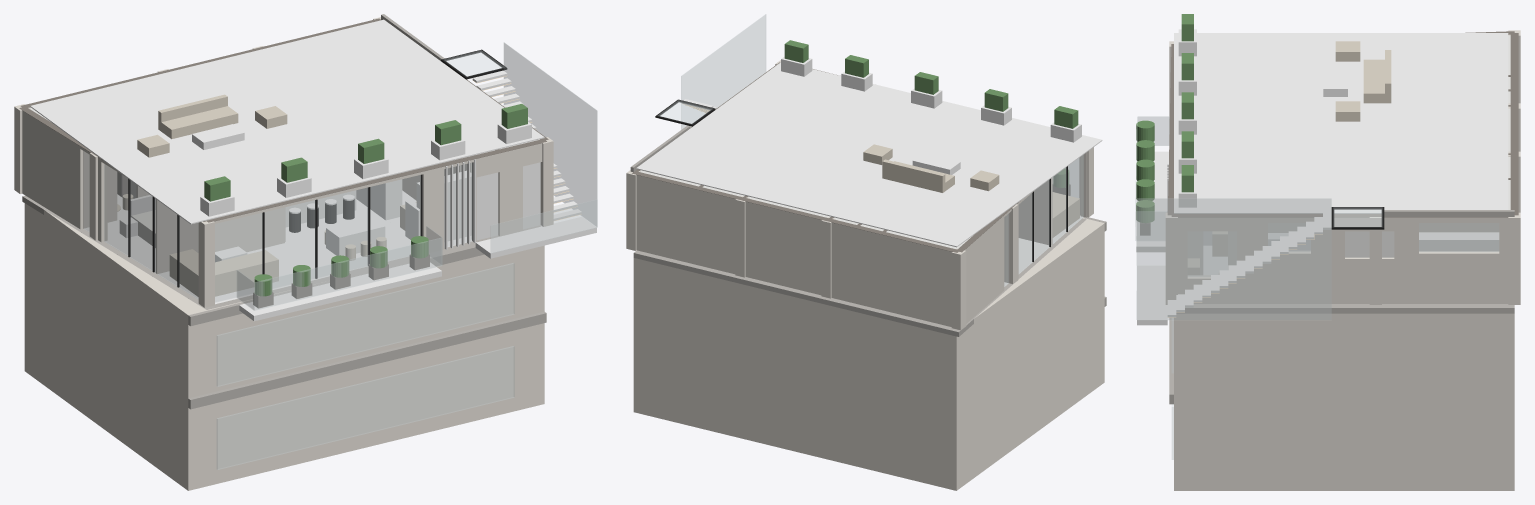
File: depa.glb
The picture shows the model from 3 angles, left to right: view 1: azimuth 30°, elevation 25°; view 2: azimuth 150°, elevation 25°; view 3: azimuth 270°, elevation 25°; orthographic projection. The views are drawn at different scales.
Parts seen in each view (by area): view 1: depa; view 2: depa; view 3: depa.
Part boxes in pixels (box(x1,y1,x2,y2)): depa: box(14, 14, 597, 490); depa: box(626, 14, 1106, 490); depa: box(1135, 14, 1520, 490).
Size of the model in its own units: 15.7 by 11.11 by 12.5.
